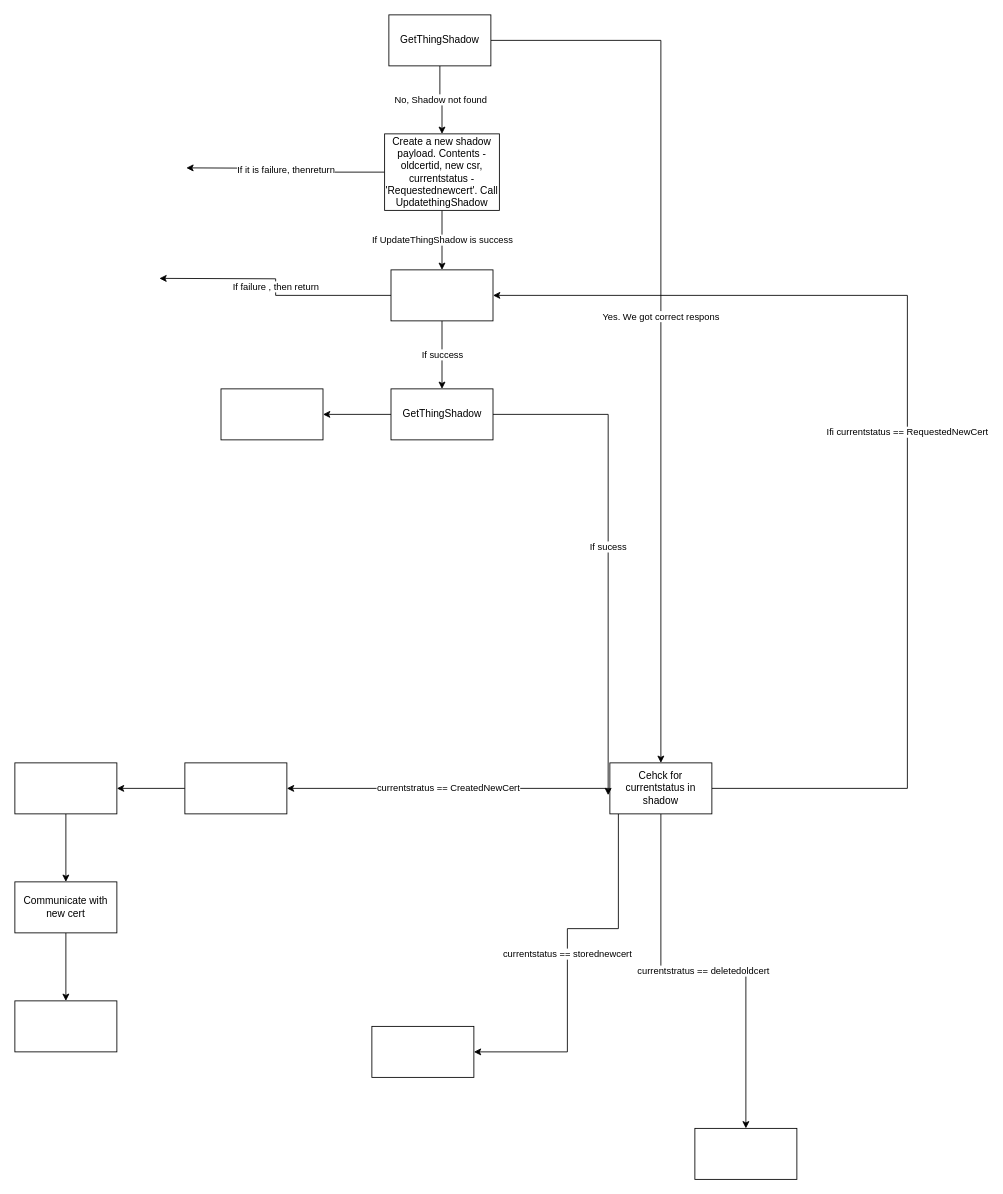
The diagram is 1003 pixels wide and 1194 high, and some of its shapes have lost their labels. Each missing label, with the centre of its shape:
"APi call for Create NewShadow" goes at [441,295].
"Craete new cert and add in store" goes at [65,788].
"From shadow, get certPEm" goes at [235,788].
